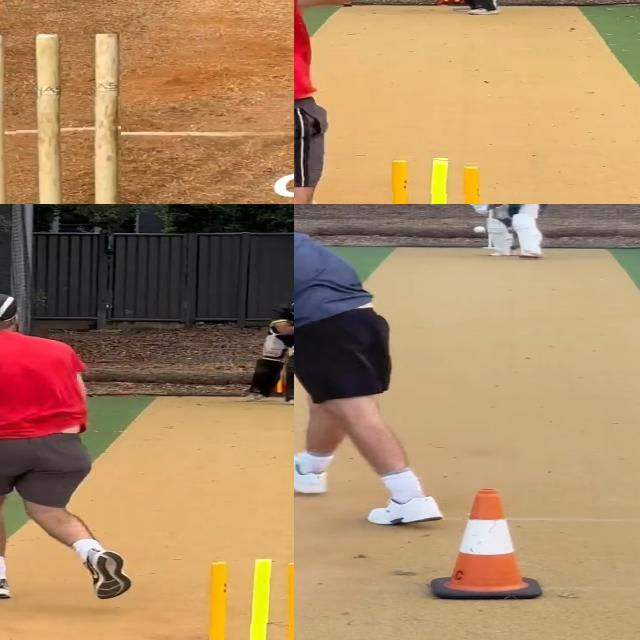Cricket ball: (470, 223, 490, 236)
Stumps: (0, 34, 121, 204), (184, 559, 294, 640), (370, 157, 496, 204)
